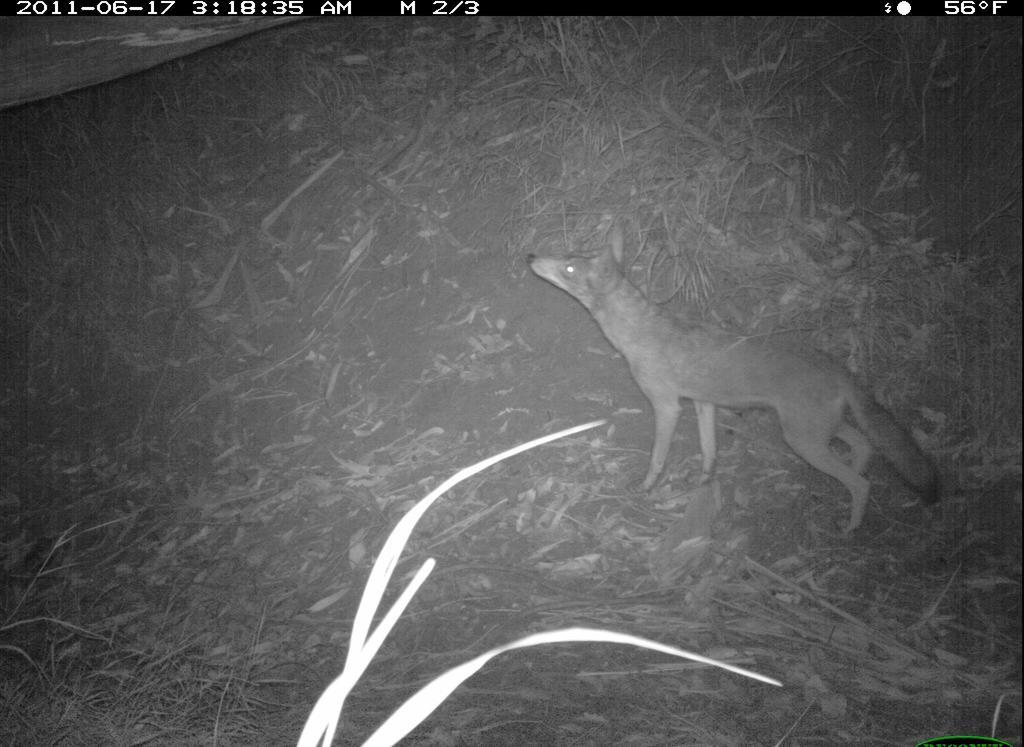coyote: (524, 216, 953, 542)
